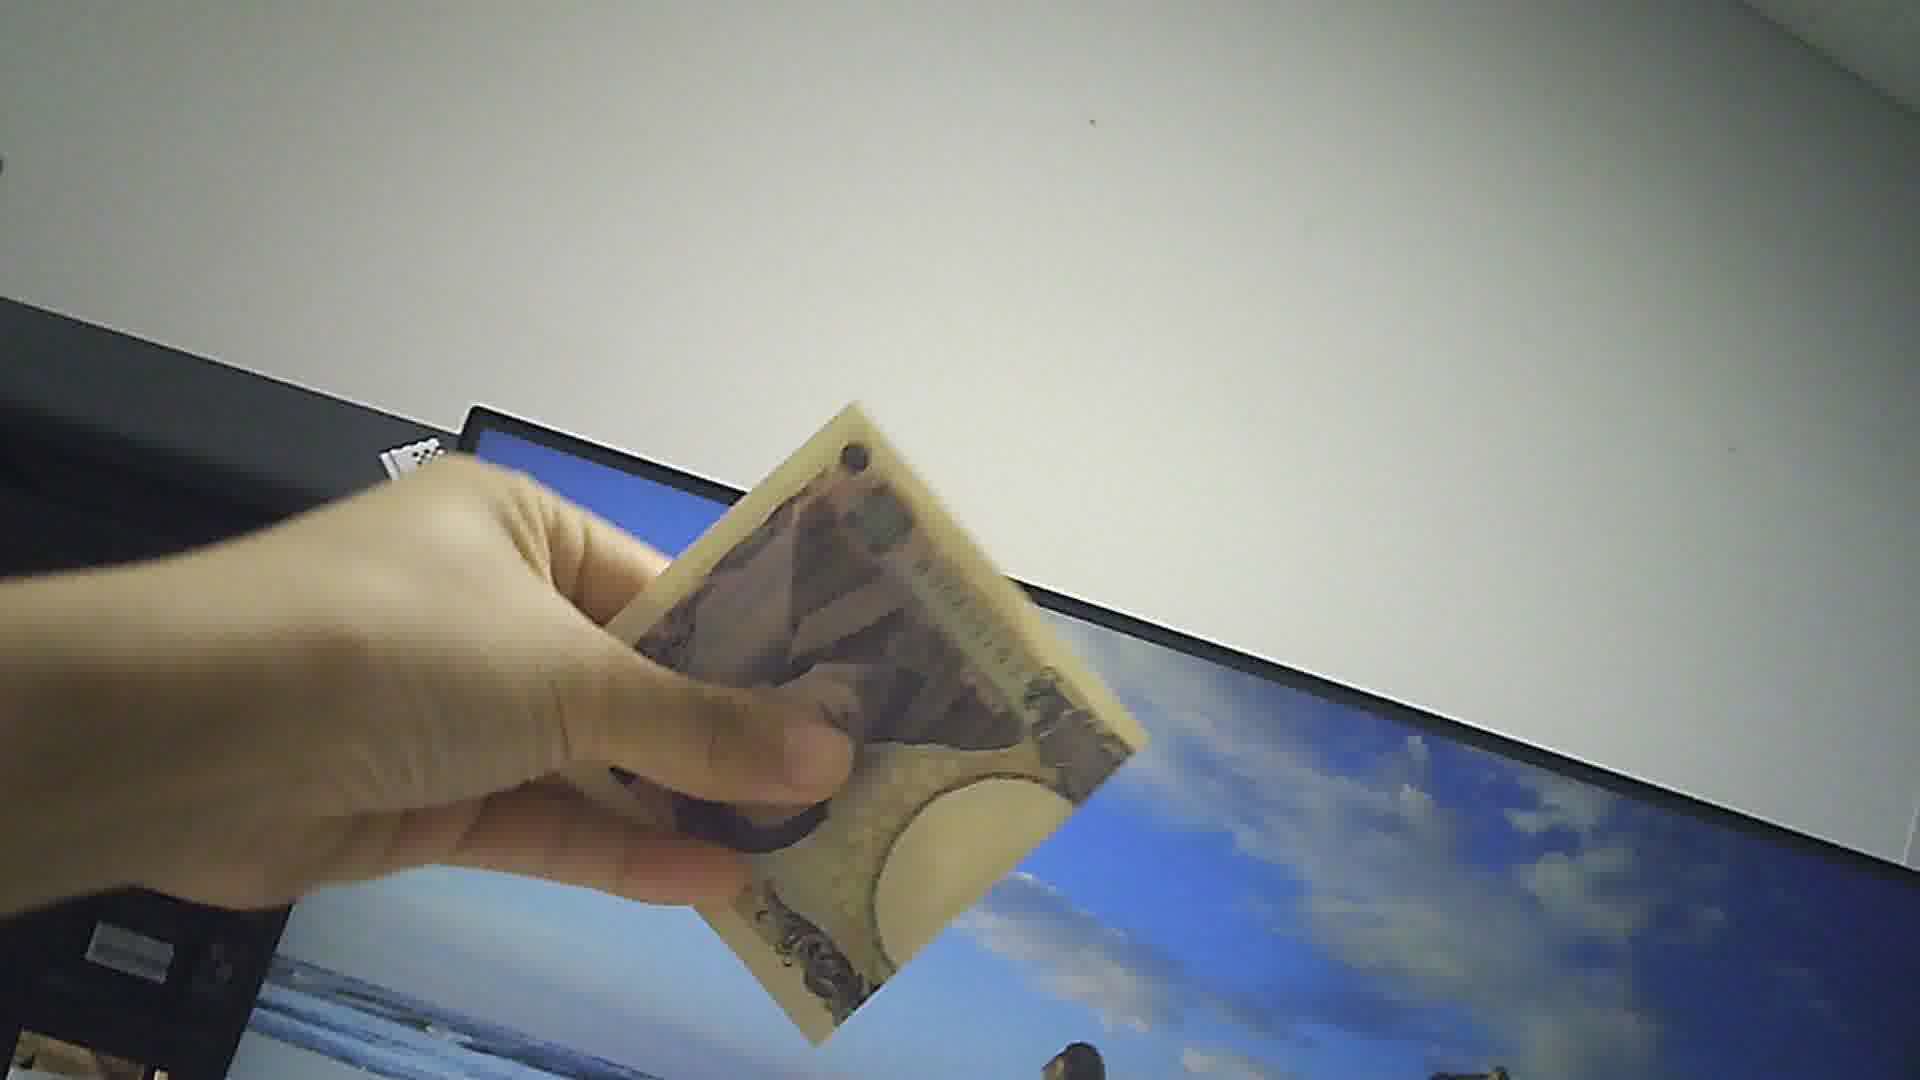5,000 Yen: (560, 397, 1135, 1036)
